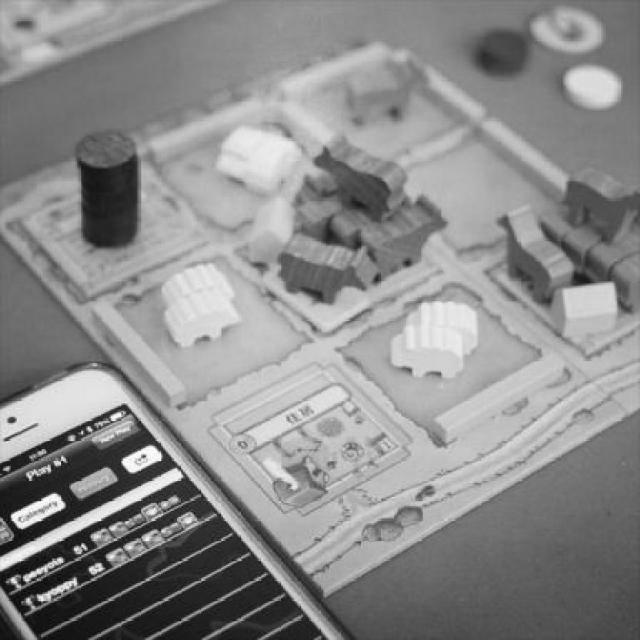fake: (0, 359, 355, 638)
